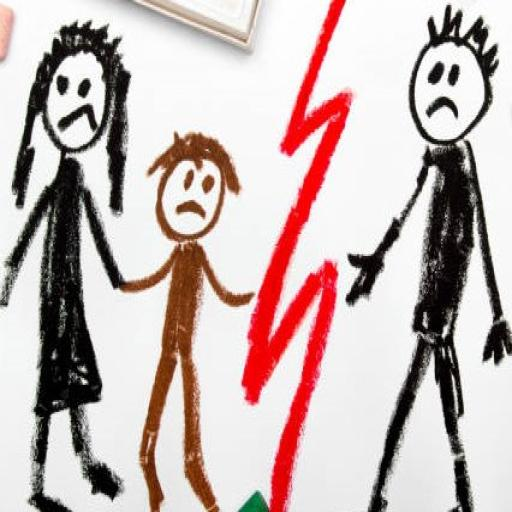person: (343, 0, 512, 510), (0, 17, 131, 509), (124, 130, 254, 509)
